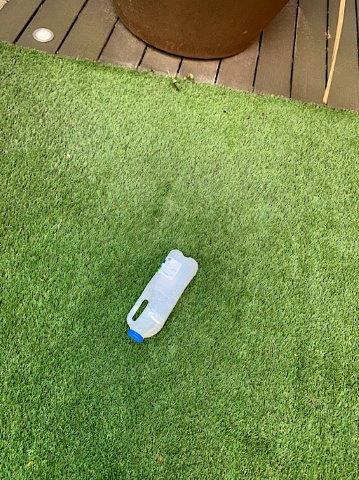botolplastik: (127, 250, 197, 342)
